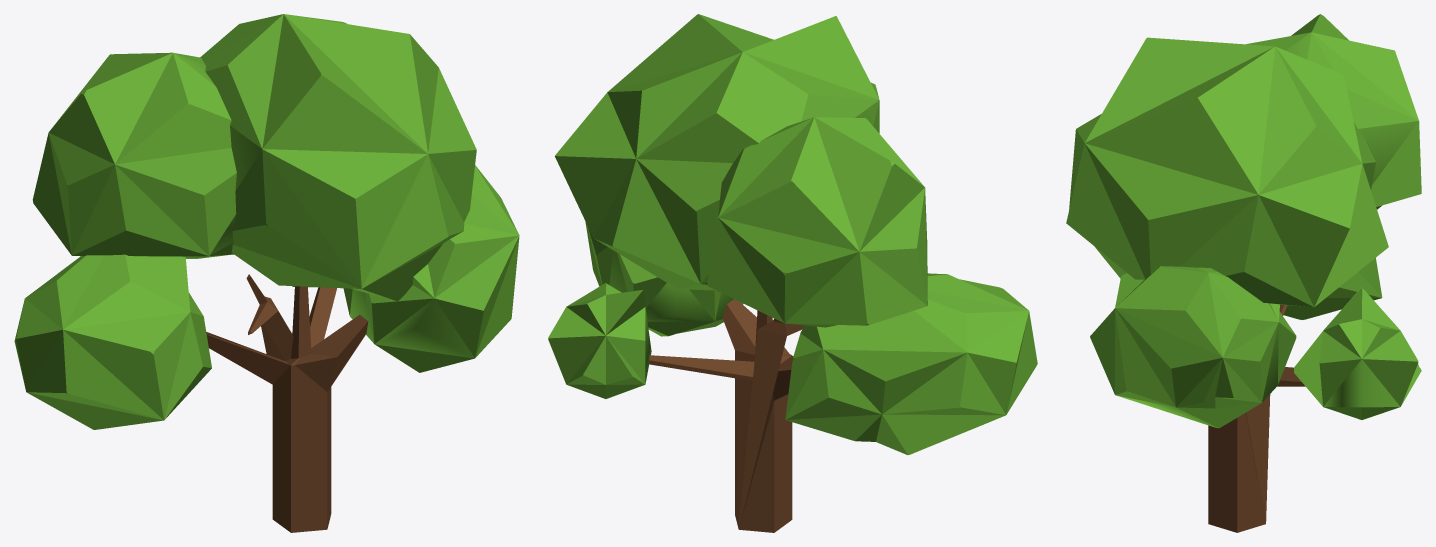
File: polybaum1.FBX
3 renders of one model, left to right at view 1: azimuth 30°, elevation 25°; view 2: azimuth 150°, elevation 25°; view 3: azimuth 270°, elevation 25°, orthographic. The views are drawn at different scales.
Visible parts, largest first — view 1: GeoSphere005, GeoSphere004, GeoSphere003, GeoSphere002, Gengon001, Pyramid001, Prism001; view 2: GeoSphere005, GeoSphere004, GeoSphere003, Gengon001, GeoSphere001, GeoSphere002, Prism001; view 3: GeoSphere005, GeoSphere002, GeoSphere004, GeoSphere001, Gengon001, GeoSphere003.
Part boxes in pixels (bbox=[...]): GeoSphere005: bbox=[200, 14, 476, 301]; GeoSphere004: bbox=[32, 52, 236, 258]; GeoSphere003: bbox=[14, 254, 211, 429]; GeoSphere002: bbox=[343, 165, 519, 372]; Gengon001: bbox=[206, 274, 368, 532]; Pyramid001: bbox=[291, 286, 311, 358]; Prism001: bbox=[309, 287, 336, 347]; GeoSphere005: bbox=[555, 14, 879, 290]; GeoSphere004: bbox=[707, 117, 927, 327]; GeoSphere003: bbox=[785, 273, 1037, 454]; Gengon001: bbox=[722, 299, 804, 532]; GeoSphere001: bbox=[548, 283, 651, 398]; GeoSphere002: bbox=[585, 221, 743, 336]; Prism001: bbox=[649, 355, 754, 380]; GeoSphere005: bbox=[1066, 37, 1388, 307]; GeoSphere002: bbox=[1090, 266, 1296, 428]; GeoSphere004: bbox=[1246, 14, 1421, 209]; GeoSphere001: bbox=[1293, 287, 1421, 419]; Gengon001: bbox=[1208, 304, 1287, 532]; GeoSphere003: bbox=[1283, 258, 1382, 319].
Size of the model in its own units: 80.96 by 82.48 by 56.14.
2 materials, 2 textured.
